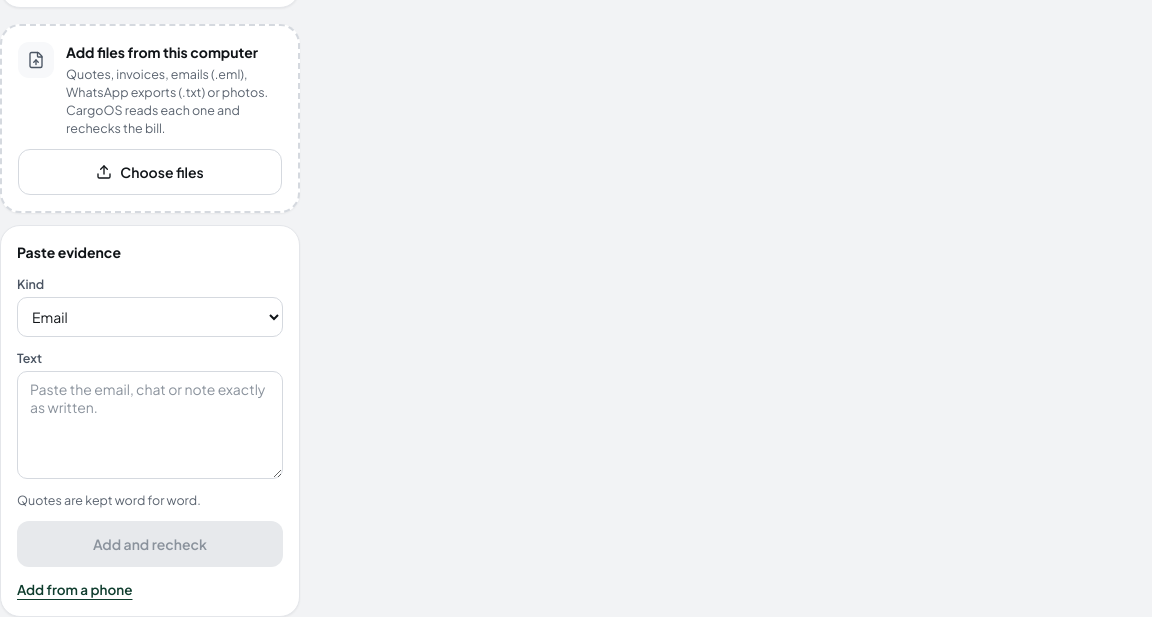
Test: DocumentsTab › Add and recheck sends the pasted text and its kind to addEvidence
The width and height of the screenshot is (1152, 617).
(page scrolled)
Expected: the button "Add and recheck" is disabled, [17, 521, 283, 567]
Select "Chat" in the dropdown labelled "Kind" at (150, 317), box [17, 297, 283, 337]
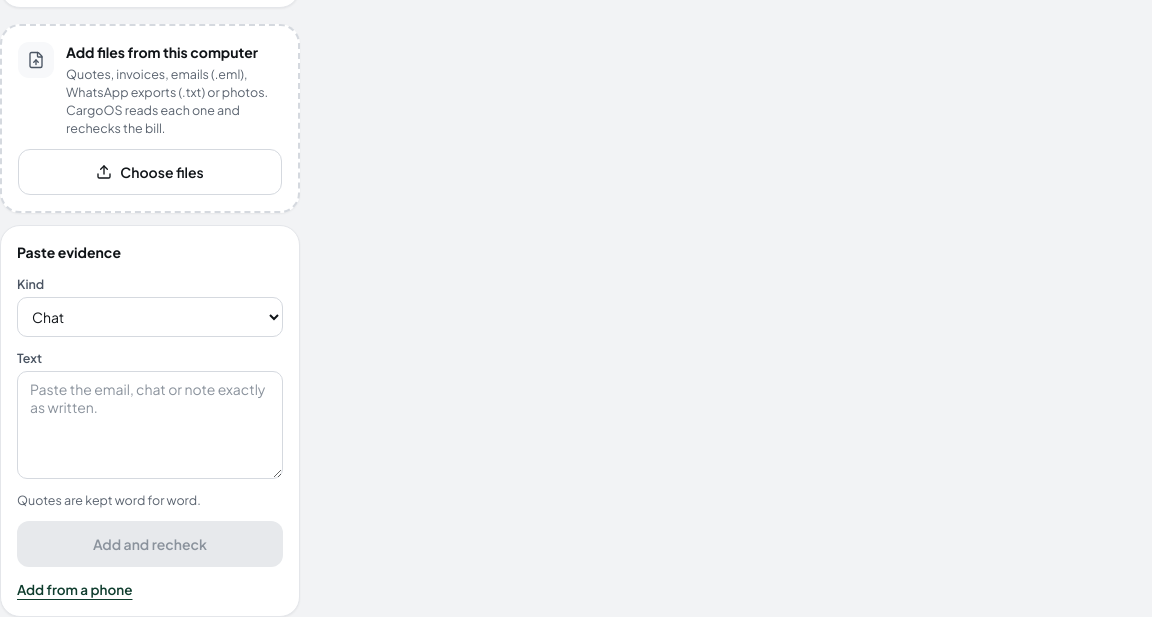
Type "  Derek: rush handling is waived  " into the text box labelled "Text" at (150, 425), box [17, 371, 283, 479]
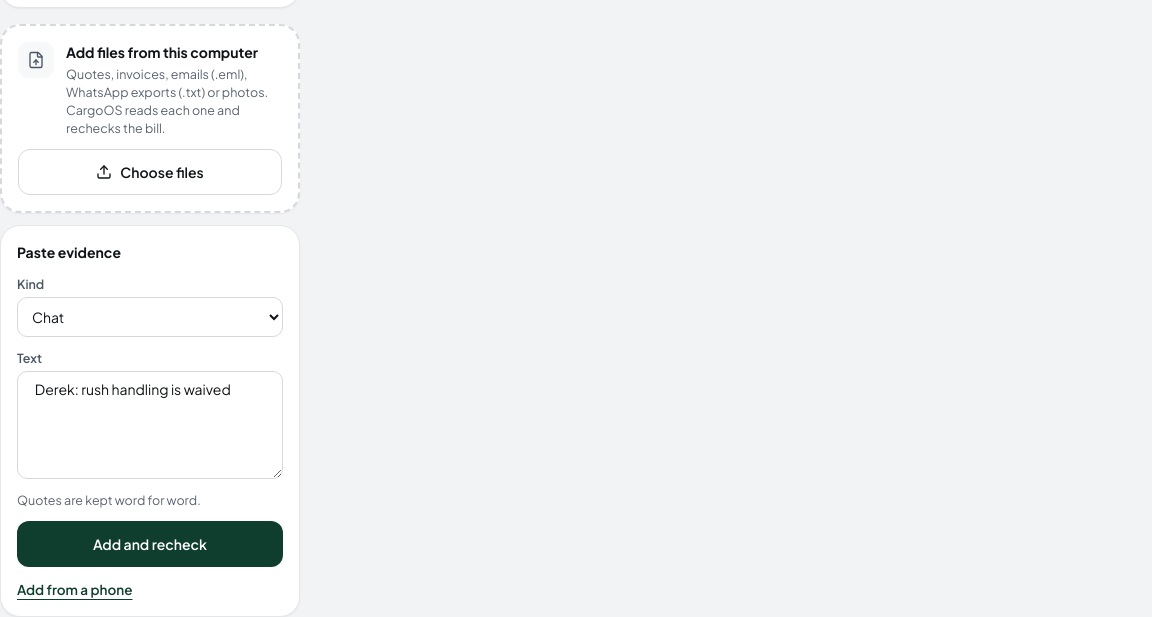
Click the button "Add and recheck" at (150, 544), box [17, 521, 283, 567]
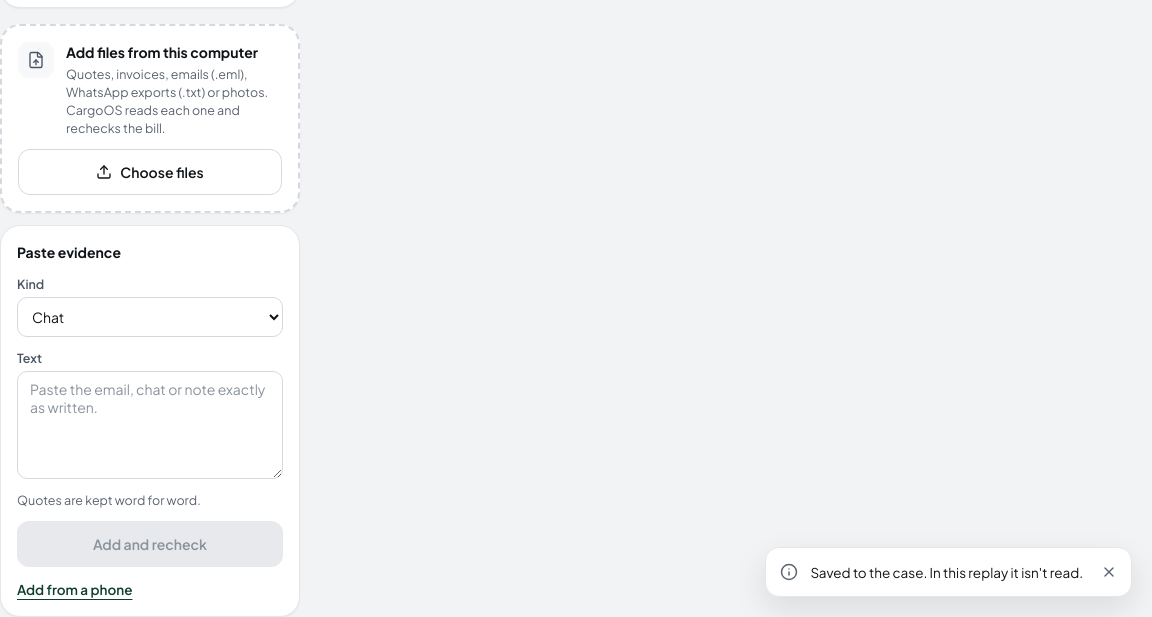
Now the text "Saved to the case. In this replay it isn't read." is shown, box [810, 562, 1083, 582]
Now the text box labelled "Text" is empty, box [17, 371, 283, 479]
